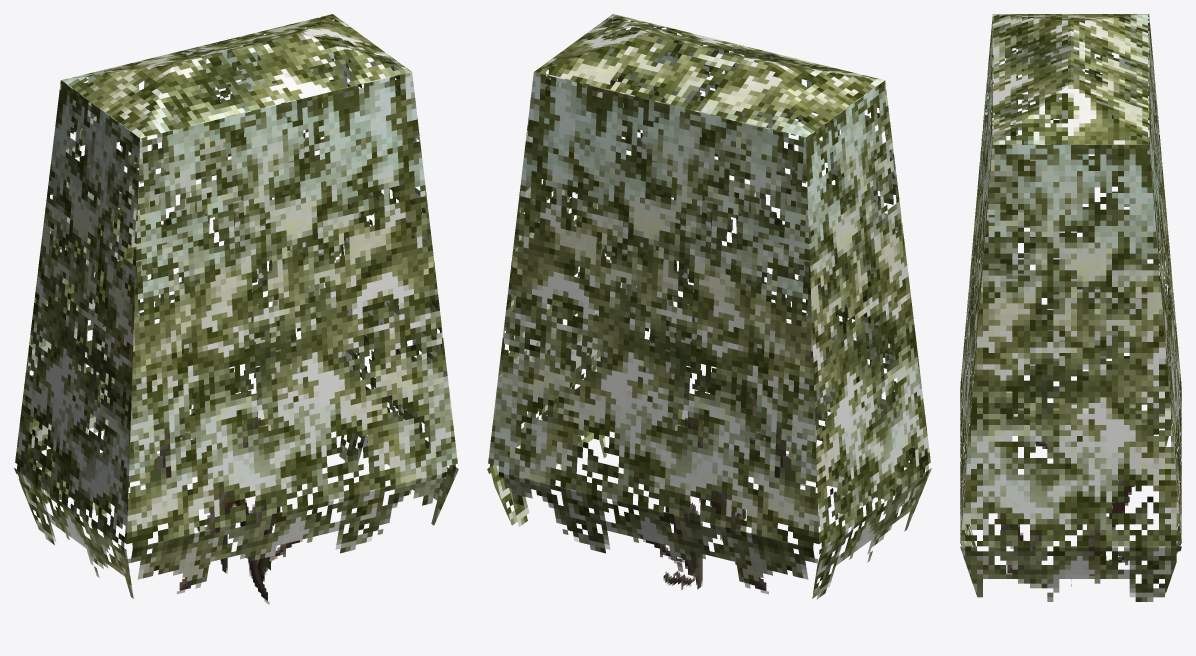
The model's file is bush_tall_half_single_roots_winter.glb.
3 renders of one model, left to right at view 1: azimuth 30°, elevation 25°; view 2: azimuth 150°, elevation 25°; view 3: azimuth 270°, elevation 25°, orthographic.
Parts seen in each view (by area): view 1: bush_tall_half_single_roots_winter; view 2: bush_tall_half_single_roots_winter; view 3: bush_tall_half_single_roots_winter.
Part boxes in pixels (x1,y1,x2,y2): bush_tall_half_single_roots_winter: (14,14,458,604); bush_tall_half_single_roots_winter: (487,14,931,599); bush_tall_half_single_roots_winter: (960,14,1181,601).
Bounding box in the file's own units: 1.23 × 1.88 × 0.7191.
Materials: 2 (2 with a texture image).
